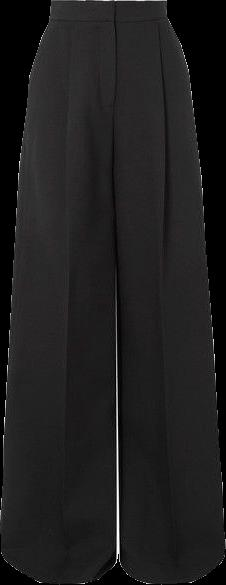Hemline: (0, 551, 120, 584), (115, 552, 225, 584)
Pantleg: (1, 0, 120, 583), (113, 0, 224, 583)
Waistline: (47, 16, 169, 27), (49, 0, 167, 8)
